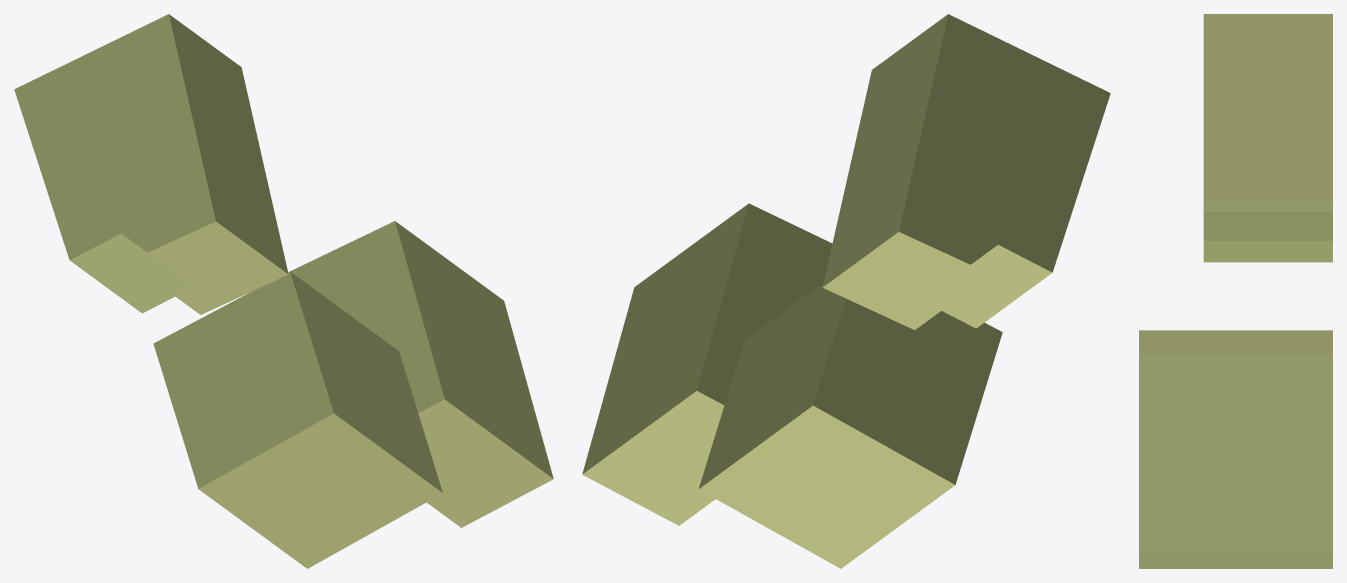
3 views of the same model, side by side, from view 1: azimuth 30°, elevation 25°; view 2: azimuth 150°, elevation 25°; view 3: azimuth 270°, elevation 25° (orthographic). The views are drawn at different scales.
Parts seen in each view (by area): view 1: 0_1_0_2_0_0_2_0_2_1; view 2: 0_1_0_2_0_0_2_0_2_1; view 3: 0_1_0_2_0_0_2_0_2_1.
Part boxes in pixels (box(x1,y1,x2,y2)): 0_1_0_2_0_0_2_0_2_1: box(14, 14, 553, 568); 0_1_0_2_0_0_2_0_2_1: box(582, 14, 1110, 568); 0_1_0_2_0_0_2_0_2_1: box(1139, 14, 1332, 568).
Bounding box in the file's own units: 20.5 × 21.95 × 9.
